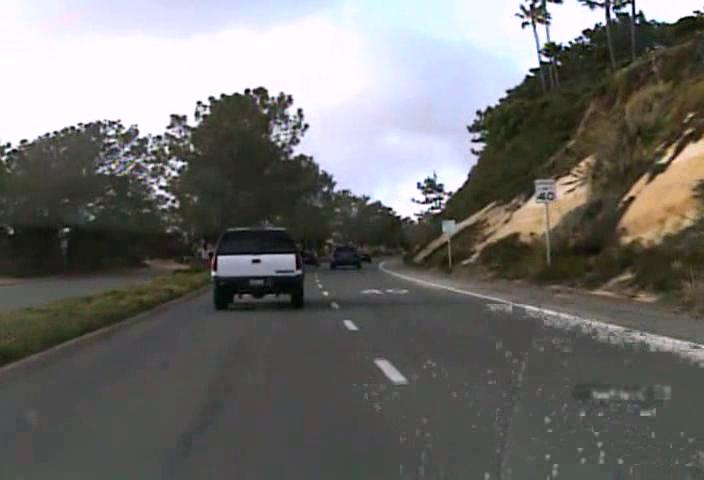speedLimit40: (533, 177, 557, 204)
